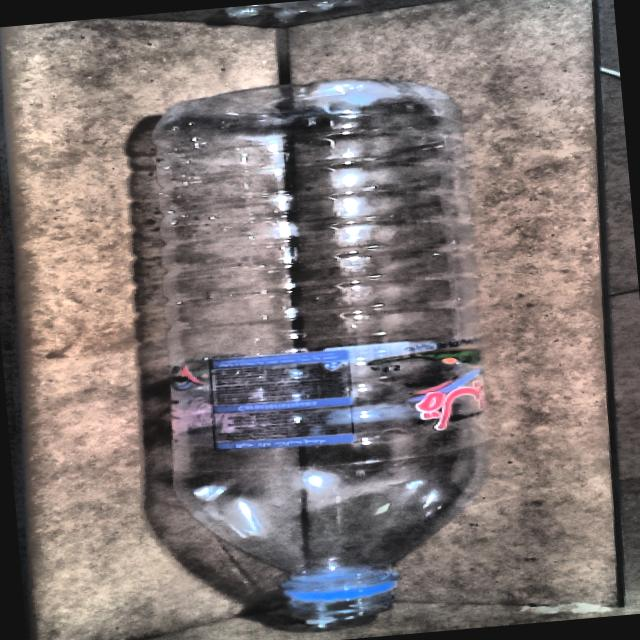plastic bottle: (151, 79, 486, 628)
